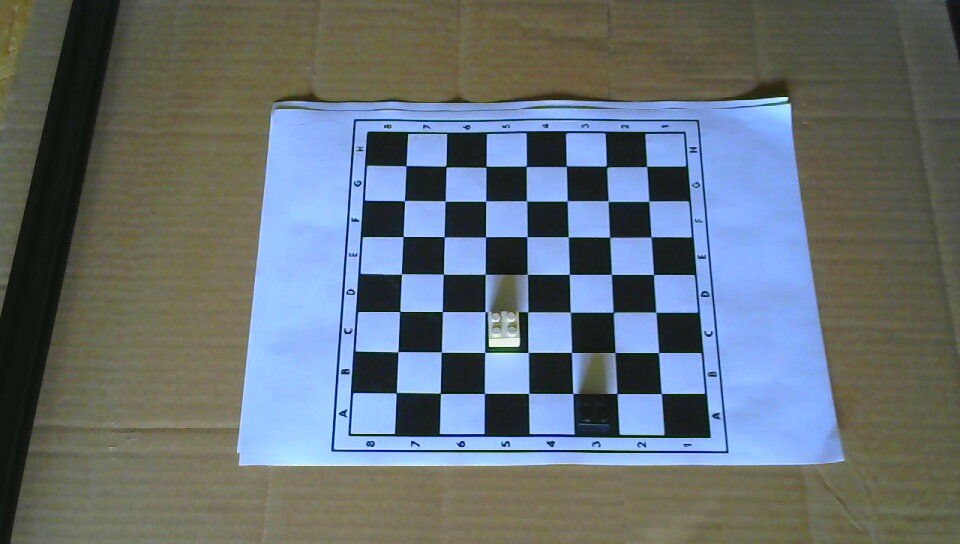bp: (574, 392, 615, 434)
wp: (484, 308, 522, 349)
